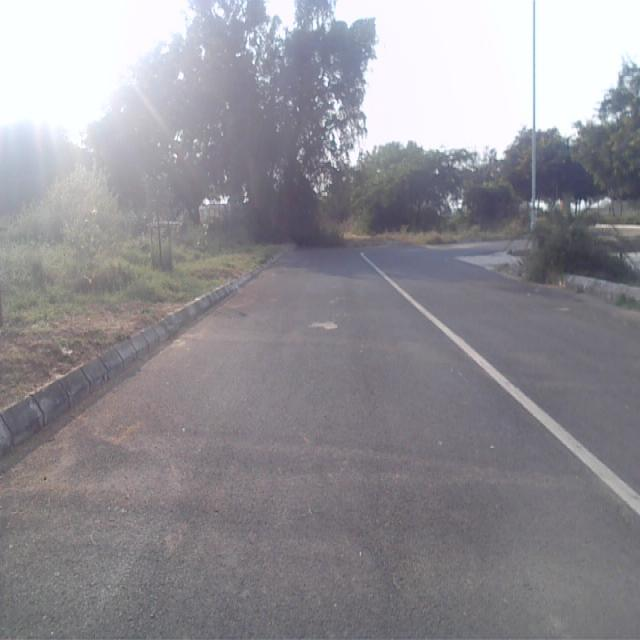lane: (0, 251, 640, 640)
